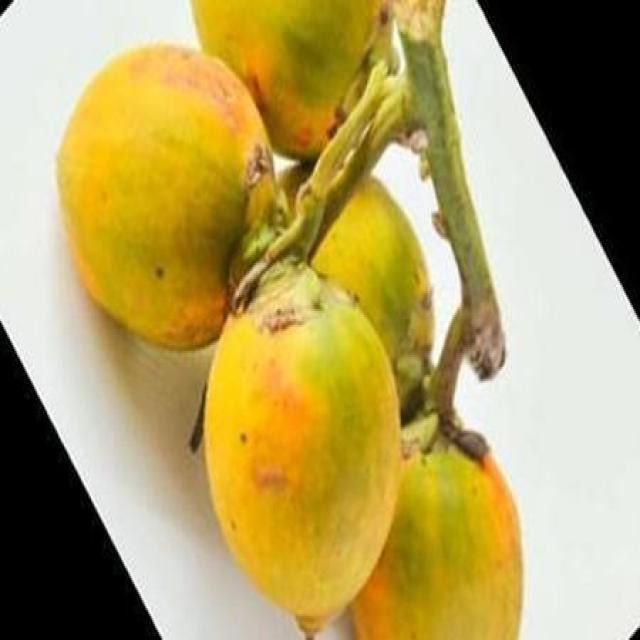good: (195, 247, 405, 638), (53, 44, 273, 353), (344, 447, 525, 638), (186, 0, 381, 161)
